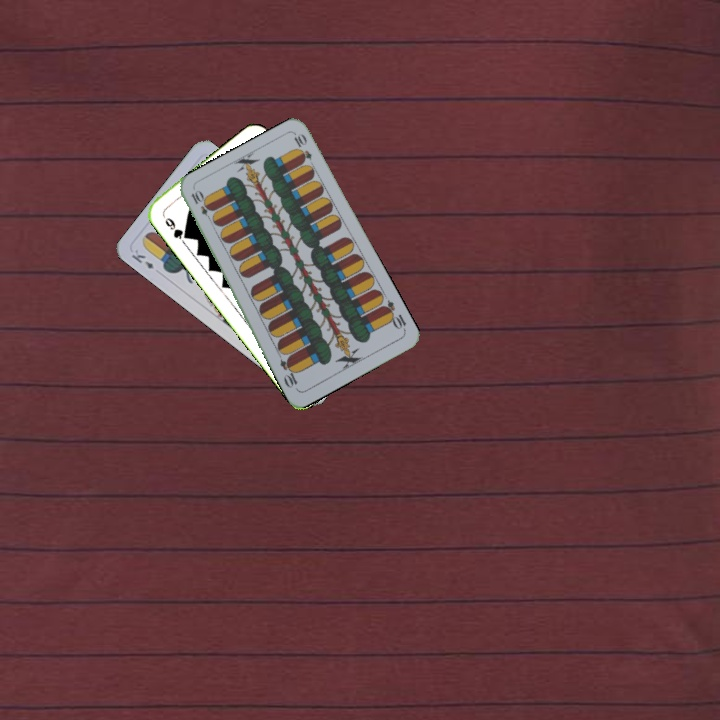E10: (378, 296, 409, 334), (187, 186, 216, 225)
EK: (127, 245, 157, 272)
G9: (158, 210, 191, 242)
